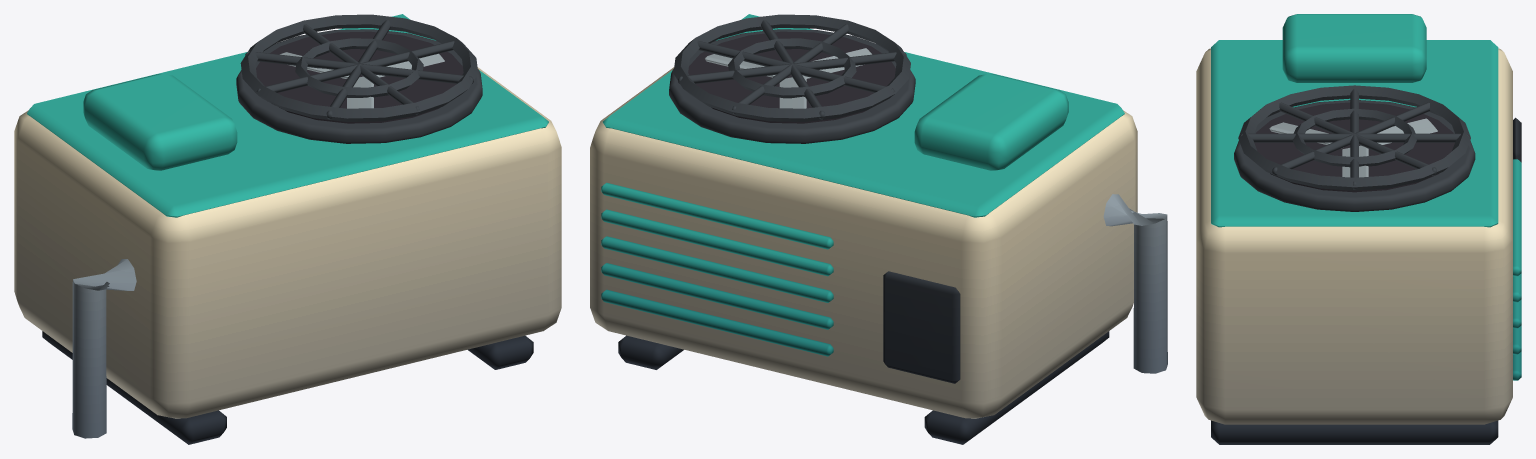
File: roof-hvac.glb
3 renders of one model, left to right at view 1: azimuth 30°, elevation 25°; view 2: azimuth 150°, elevation 25°; view 3: azimuth 270°, elevation 25°, orthographic. The views are drawn at different scales.
Visible parts, largest first — view 1: roof-hvac Cream, roof-hvac Teal, roof-hvac Gunmetal, roof-hvac Steel, roof-hvac Ashen charcoal; view 2: roof-hvac Cream, roof-hvac Teal, roof-hvac Gunmetal, roof-hvac Steel, roof-hvac Ashen charcoal; view 3: roof-hvac Cream, roof-hvac Teal, roof-hvac Gunmetal, roof-hvac Ashen charcoal, roof-hvac Steel.
Part boxes in pixels (x1,y1,x2,y2): roof-hvac Cream: (14, 67, 561, 418); roof-hvac Teal: (27, 14, 548, 217); roof-hvac Gunmetal: (42, 14, 533, 444); roof-hvac Steel: (72, 52, 444, 438); roof-hvac Ashen charcoal: (256, 31, 463, 123); roof-hvac Cream: (590, 67, 1137, 418); roof-hvac Teal: (601, 14, 1124, 356); roof-hvac Gunmetal: (618, 14, 1109, 444); roof-hvac Steel: (705, 48, 1167, 373); roof-hvac Ashen charcoal: (688, 31, 895, 123); roof-hvac Cream: (1196, 48, 1512, 424); roof-hvac Teal: (1211, 14, 1521, 380); roof-hvac Gunmetal: (1211, 85, 1521, 444); roof-hvac Ashen charcoal: (1254, 102, 1454, 192); roof-hvac Steel: (1269, 118, 1437, 177).
Size of the model in its own units: 1.81 by 1.05 by 1.13.
Materials: 5 (5 with a texture image).
